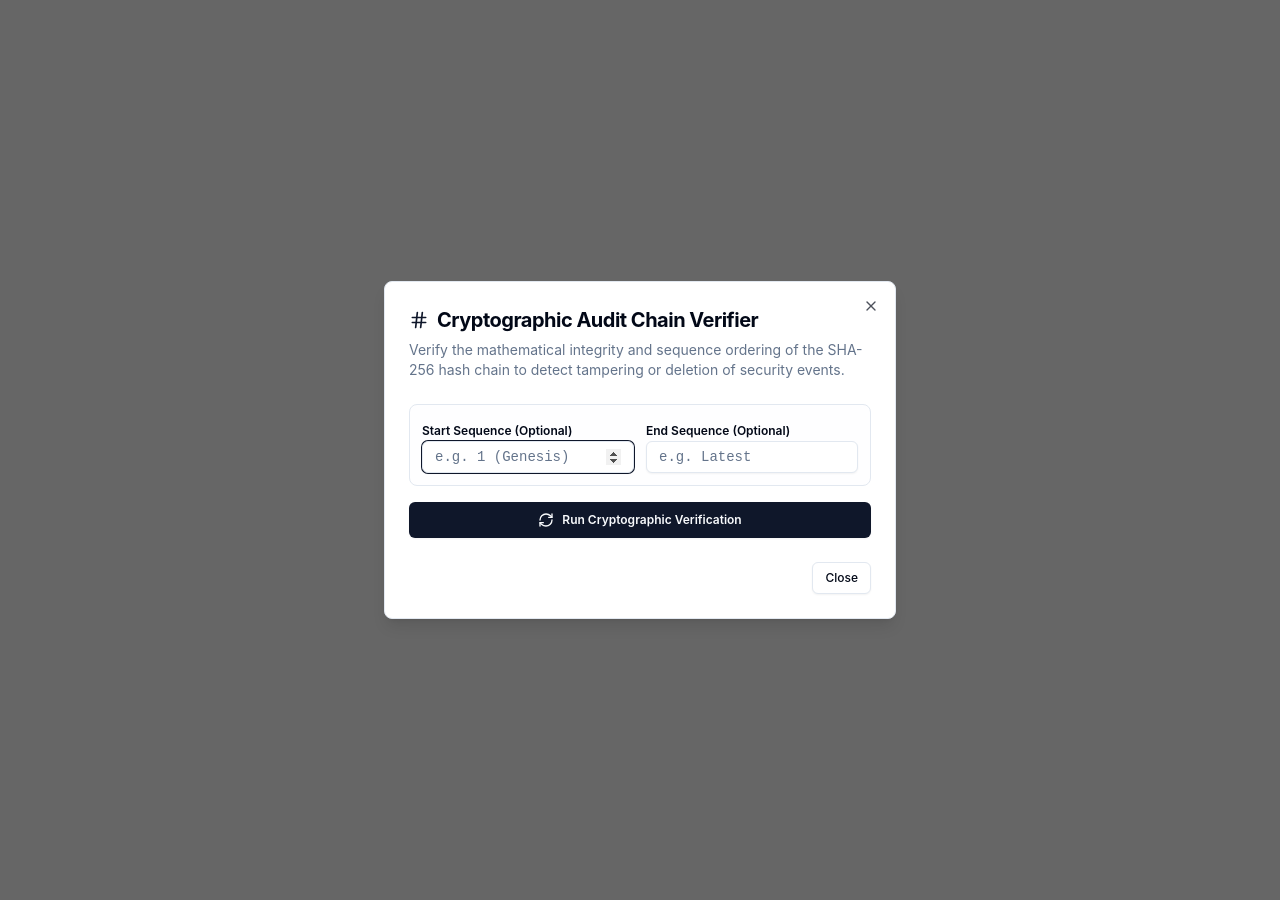
Scenario: Audit UI Components › renders AuditIntegrityModal and handles verification execution
Check: the heading "Cryptographic Audit Chain Verifier" is shown, box [409,308,758,332]
Check: the text "Verify the mathematical integrity and sequence ordering" is shown, box [409,341,863,378]
Click the button "Run Cryptographic Verification" at (640, 520), box [409,502,871,538]
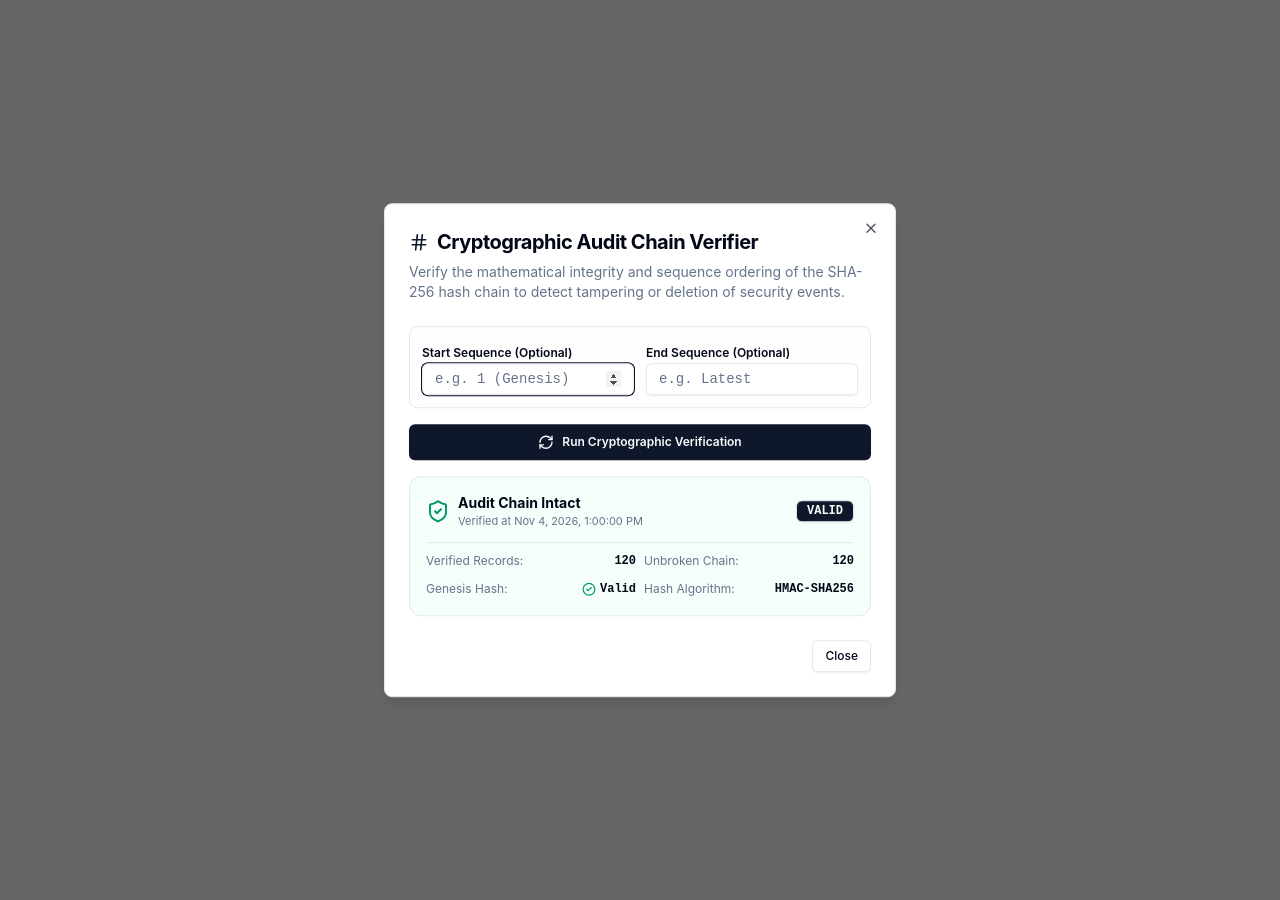
Check: the heading "Audit Chain Intact" is shown, box [458,494,581,511]
Check: the text "HMAC-SHA256" is shown, box [775,581,854,597]
